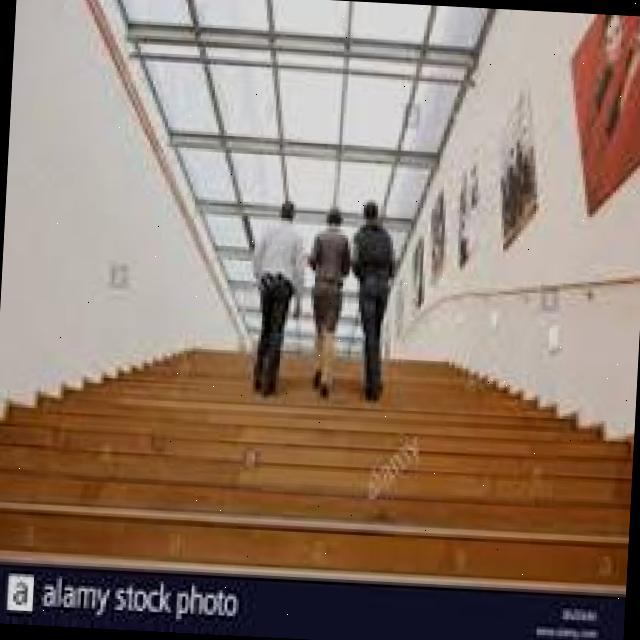stairs: (104, 300, 640, 598)
